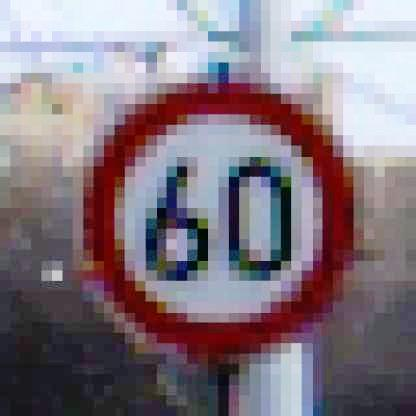Speed Limit -60-: (78, 79, 368, 360)
